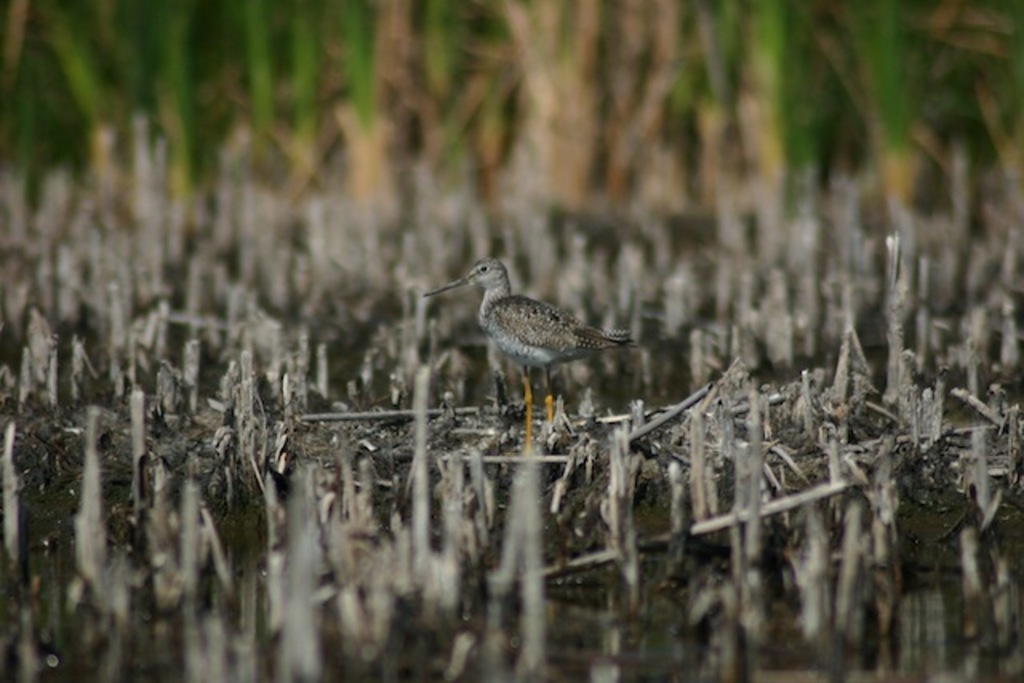Bird: (421, 254, 637, 457)
